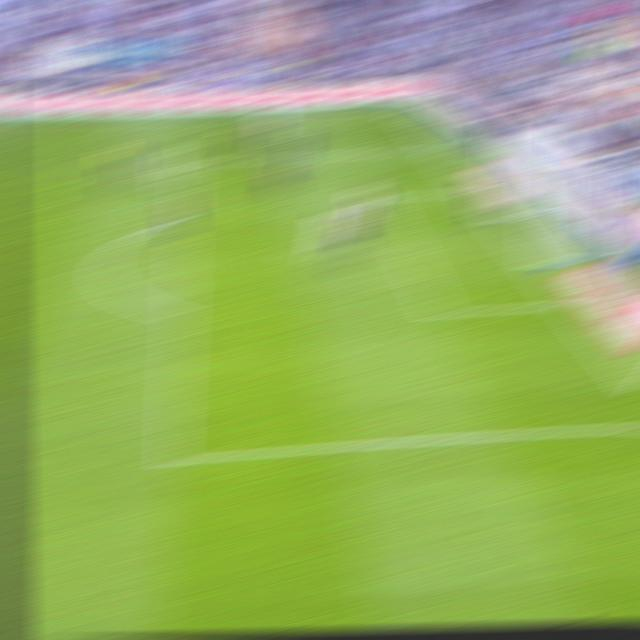bigarea_bottom_inner: (427, 300, 453, 322)
bigarea_top_inner: (368, 192, 392, 204)
bigarea_top_outter: (425, 142, 449, 153)
corner: (392, 106, 416, 112)
smallarea_bottom_outter: (555, 293, 581, 313)
smallarea_top_outter: (460, 183, 485, 196)
